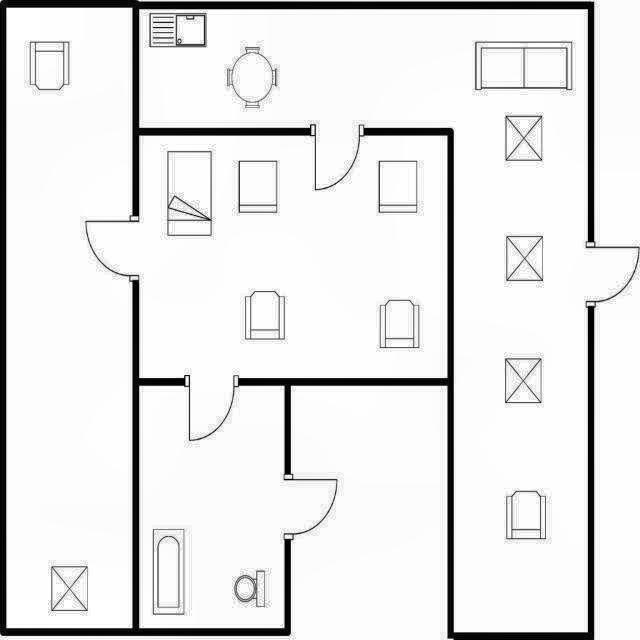room: (139, 9, 588, 632), (6, 8, 132, 628), (139, 136, 447, 378), (139, 386, 285, 628)
